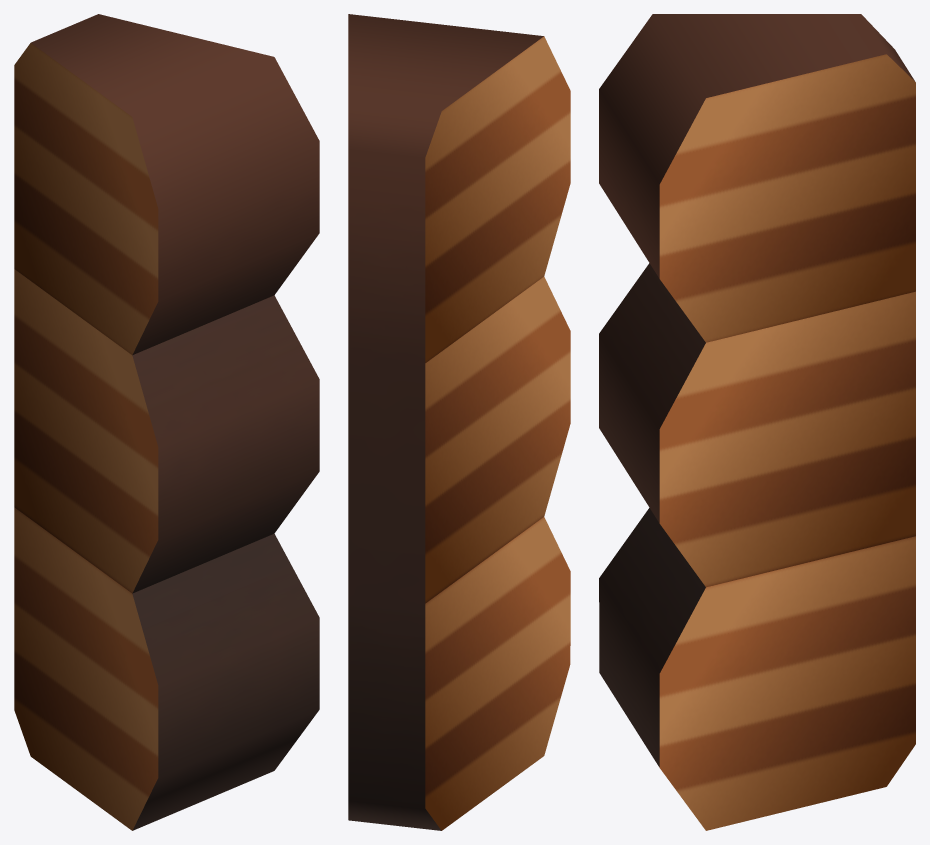
Rendered from m_Baumkuchen01_Slice.fbx.
The picture shows the model from 3 angles, left to right: view 1: azimuth 30°, elevation 25°; view 2: azimuth 150°, elevation 25°; view 3: azimuth 270°, elevation 25°; orthographic projection. The views are drawn at different scales.
Parts seen in each view (by area): view 1: m_Baumkuchen01_Slice; view 2: m_Baumkuchen01_Slice; view 3: m_Baumkuchen01_Slice.
Boxes of the visible parts, x1,y1,x2,y2 form: m_Baumkuchen01_Slice: (14,14,319,830); m_Baumkuchen01_Slice: (348,14,570,830); m_Baumkuchen01_Slice: (599,14,915,830).
Bounding box in the file's own units: 4.28 × 15.31 × 6.
